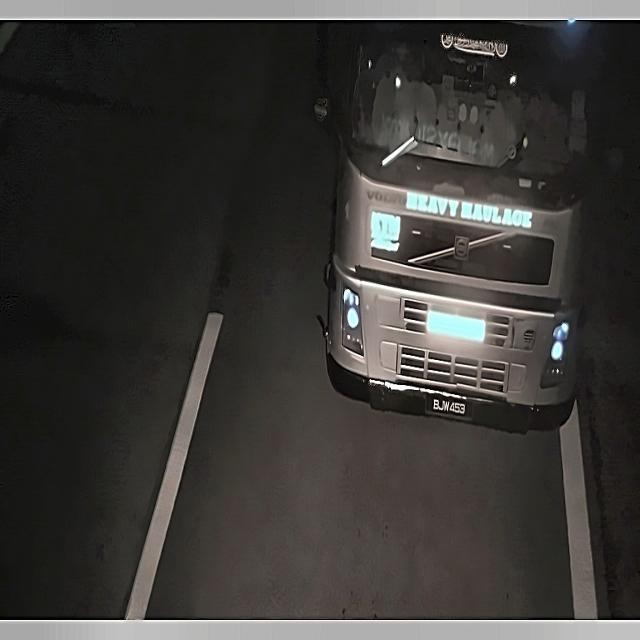car: (422, 385, 473, 423)
